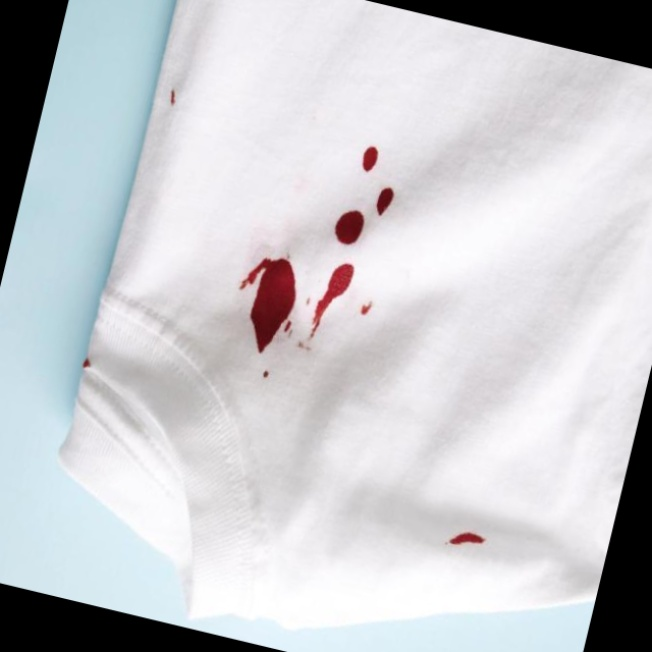blood: (327, 140, 407, 253), (236, 250, 310, 361), (307, 258, 356, 336)
